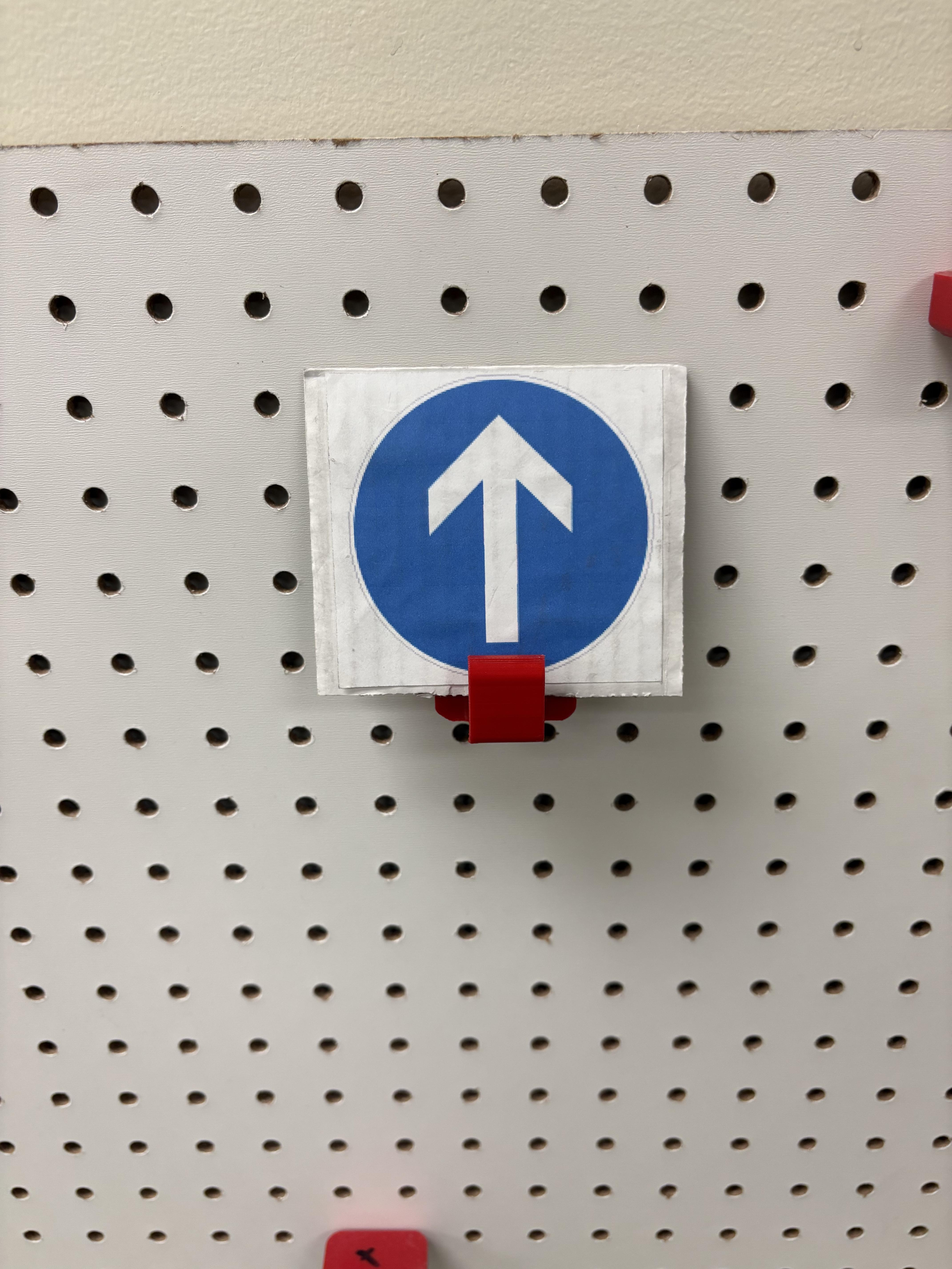Proceed Forward: (228, 498, 518, 927)
